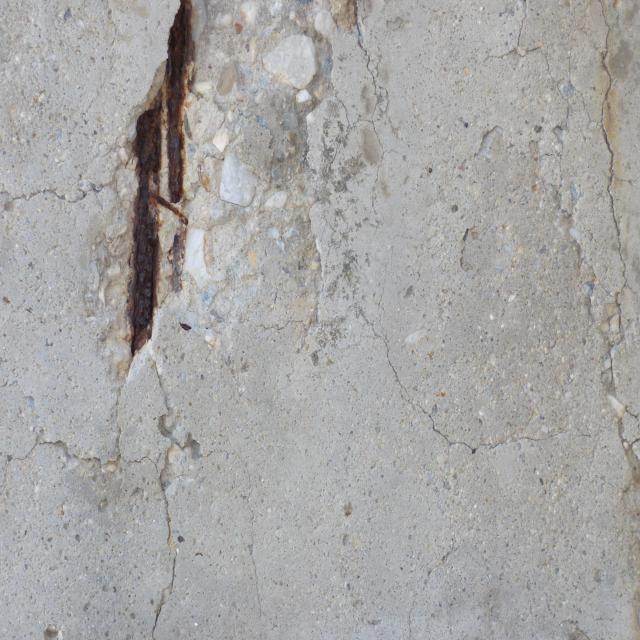corrosion: (121, 0, 213, 377)
